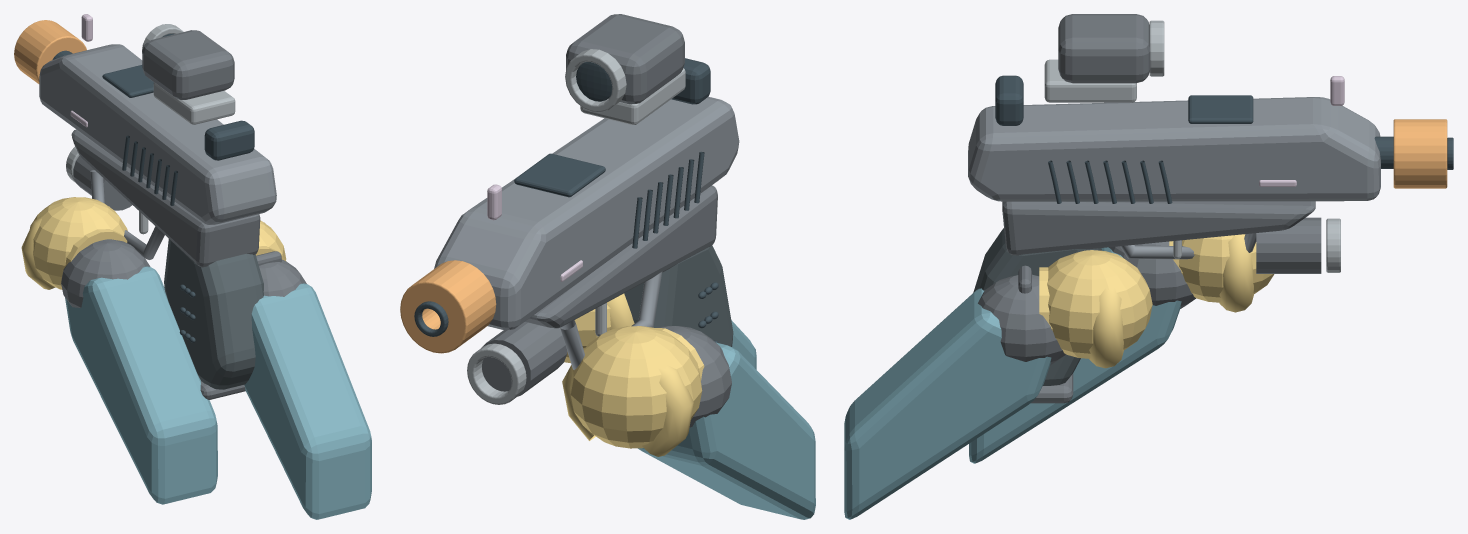
File: tempo.glb
3 views of the same model, side by side, from view 1: azimuth 30°, elevation 25°; view 2: azimuth 150°, elevation 25°; view 3: azimuth 270°, elevation 25° (orthographic). The views are drawn at different scales.
Visible parts, largest first — view 1: BATCH_TEAM_UNIFORM_SLEEVE_10, BATCH_MACHINED_GRAPHITE_02, BATCH_CERAMIC_POLYMER_01, Swept textured GBB grip, BATCH_YELLOW_MINIFIG_HAND_09, BATCH_SHADOW_GROOVES_05, BATCH_BRUSHED_ALLOY_03, Orange safety barrel tip, BATCH_CUSTOM_TEAM_ACCENT_06; view 2: BATCH_MACHINED_GRAPHITE_02, BATCH_CERAMIC_POLYMER_01, BATCH_YELLOW_MINIFIG_HAND_09, BATCH_TEAM_UNIFORM_SLEEVE_10, BATCH_SHADOW_GROOVES_05, BATCH_BRUSHED_ALLOY_03, Orange safety barrel tip, Swept textured GBB grip, BATCH_CUSTOM_TEAM_ACCENT_06; view 3: BATCH_MACHINED_GRAPHITE_02, BATCH_CERAMIC_POLYMER_01, BATCH_TEAM_UNIFORM_SLEEVE_10, BATCH_YELLOW_MINIFIG_HAND_09, BATCH_SHADOW_GROOVES_05, BATCH_BRUSHED_ALLOY_03, Orange safety barrel tip, Swept textured GBB grip, BATCH_CUSTOM_TEAM_ACCENT_06.
Part boxes in pixels (<box>): BATCH_TEAM_UNIFORM_SLEEVE_10: <box>65,266,371,519</box>; BATCH_MACHINED_GRAPHITE_02: <box>39,44,276,259</box>; BATCH_CERAMIC_POLYMER_01: <box>61,30,306,399</box>; Swept textured GBB grip: <box>164,239,263,389</box>; BATCH_YELLOW_MINIFIG_HAND_09: <box>21,197,286,289</box>; BATCH_SHADOW_GROOVES_05: <box>52,33,254,342</box>; BATCH_BRUSHED_ALLOY_03: <box>66,24,235,234</box>; Orange safety barrel tip: <box>14,20,86,83</box>; BATCH_CUSTOM_TEAM_ACCENT_06: <box>70,14,92,127</box>; BATCH_MACHINED_GRAPHITE_02: <box>434,96,739,369</box>; BATCH_CERAMIC_POLYMER_01: <box>481,14,731,427</box>; BATCH_YELLOW_MINIFIG_HAND_09: <box>562,293,704,456</box>; BATCH_TEAM_UNIFORM_SLEEVE_10: <box>638,320,815,519</box>; BATCH_SHADOW_GROOVES_05: <box>414,58,718,342</box>; BATCH_BRUSHED_ALLOY_03: <box>467,49,685,404</box>; Orange safety barrel tip: <box>400,260,496,353</box>; Swept textured GBB grip: <box>624,245,733,346</box>; BATCH_CUSTOM_TEAM_ACCENT_06: <box>487,184,582,281</box>; BATCH_MACHINED_GRAPHITE_02: <box>968,97,1380,259</box>; BATCH_CERAMIC_POLYMER_01: <box>978,14,1321,403</box>; BATCH_TEAM_UNIFORM_SLEEVE_10: <box>844,247,1181,519</box>; BATCH_YELLOW_MINIFIG_HAND_09: <box>1039,234,1274,368</box>; BATCH_SHADOW_GROOVES_05: <box>995,75,1453,203</box>; BATCH_BRUSHED_ALLOY_03: <box>1044,20,1340,272</box>; Orange safety barrel tip: <box>1393,119,1447,188</box>; Swept textured GBB grip: <box>973,228,1101,385</box>; BATCH_CUSTOM_TEAM_ACCENT_06: <box>1259,76,1344,186</box>.
Size of the model in its own units: 0.4841 by 0.9383 by 1.12.
